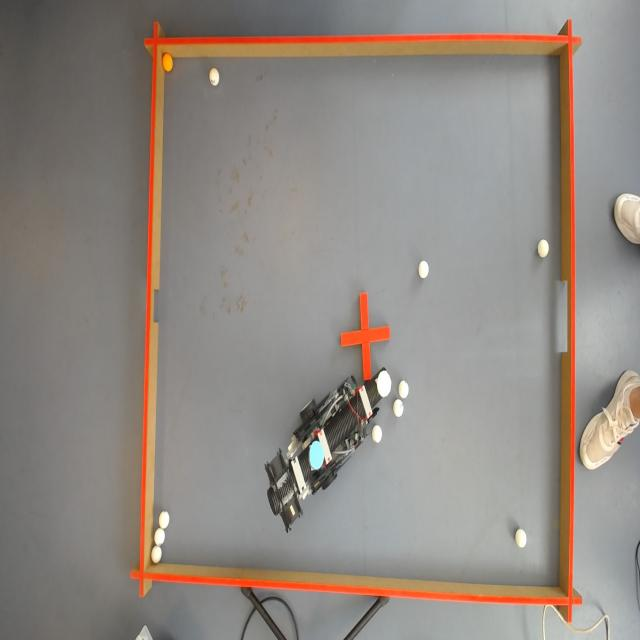orange: (162, 54, 174, 72)
robot: (264, 364, 392, 532)
robot-front: (377, 366, 391, 399)
robot-rear: (311, 436, 324, 471)
white: (152, 545, 164, 566), (399, 379, 409, 402), (372, 426, 384, 445), (538, 238, 550, 256), (516, 531, 528, 548), (394, 400, 406, 417), (154, 526, 166, 543), (159, 509, 169, 529), (210, 67, 220, 85), (418, 261, 428, 278)
